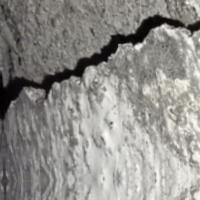crack: (0, 6, 199, 138)
